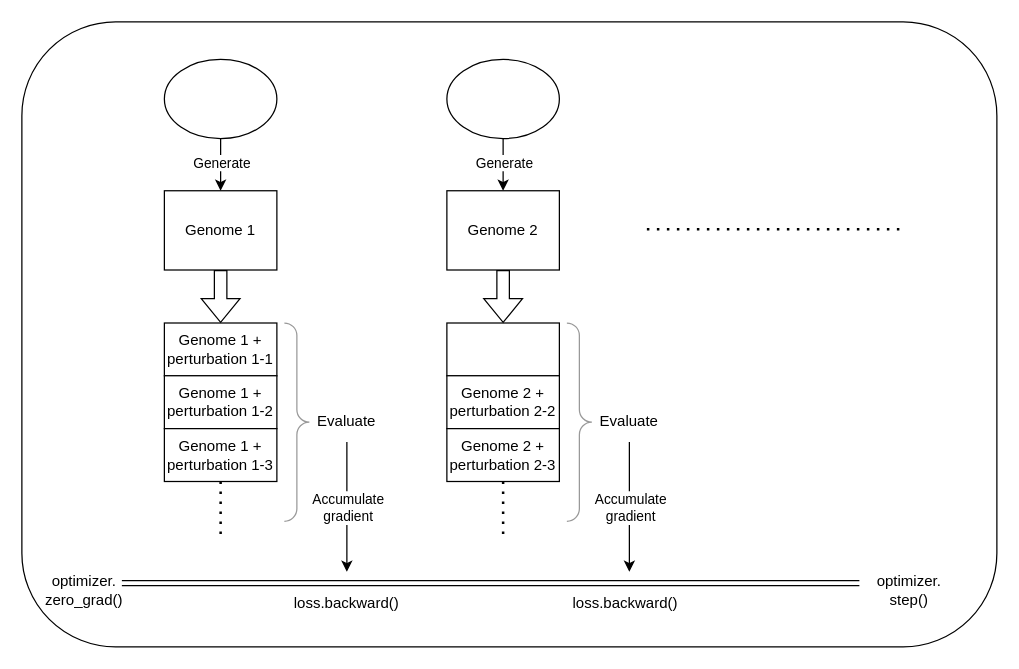
Some shapes in this 1019 by 669 pixel diagram are drawn without their labels. Here are the shapes that lost their labels. From the top down, the centre of each, then its label:
At point 220,98: "Seed 1".
At point 502,98: "Seed 2".
At point 502,349: "Genome 2 + perturbation 2-1".
